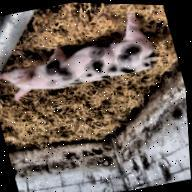boar: (0, 0, 166, 108)
